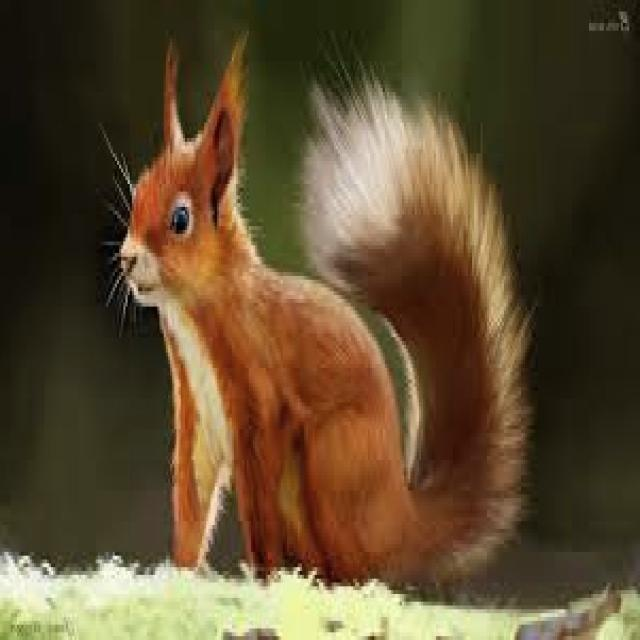squirrel: (119, 42, 532, 583)
